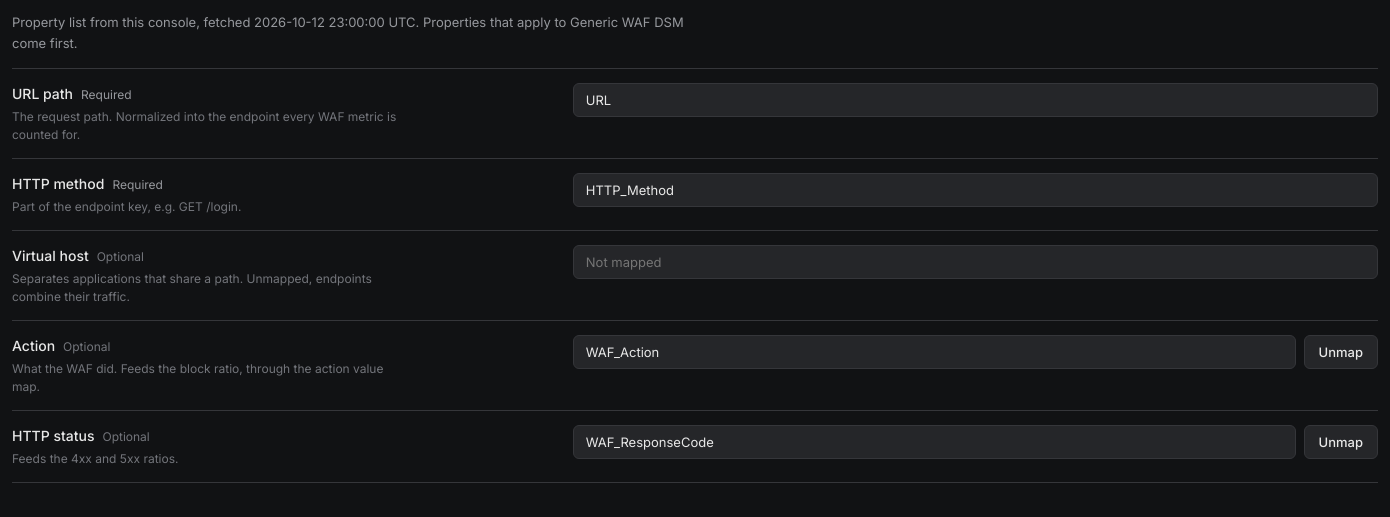
Test: FieldMappingForm › checks the pattern in the browser
This screenshot has width=1390, height=517.
Type "a;b" into the dropdown labelled "Virtual host". click: (975, 262)
box: [573,245,1378,279]
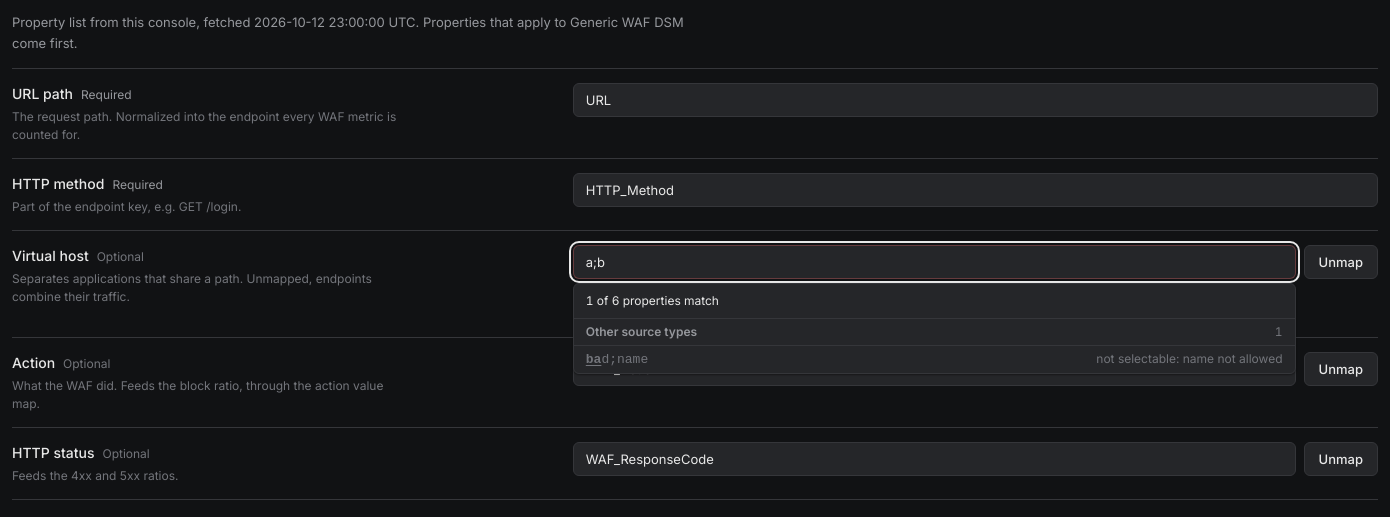
Expected: the text "Not an allowed property name" is shown, [573,288,1207,321]
